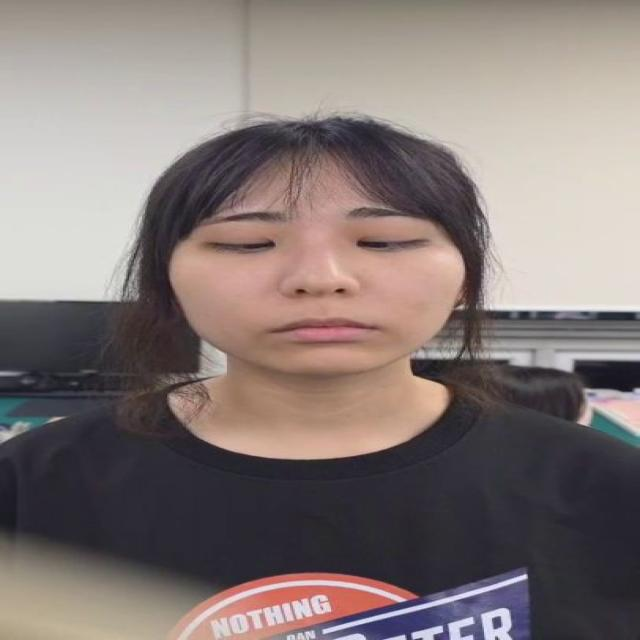eyes: (201, 233, 436, 258)
face: (169, 119, 468, 376)
iris_down: (356, 236, 391, 251), (243, 238, 276, 253)
